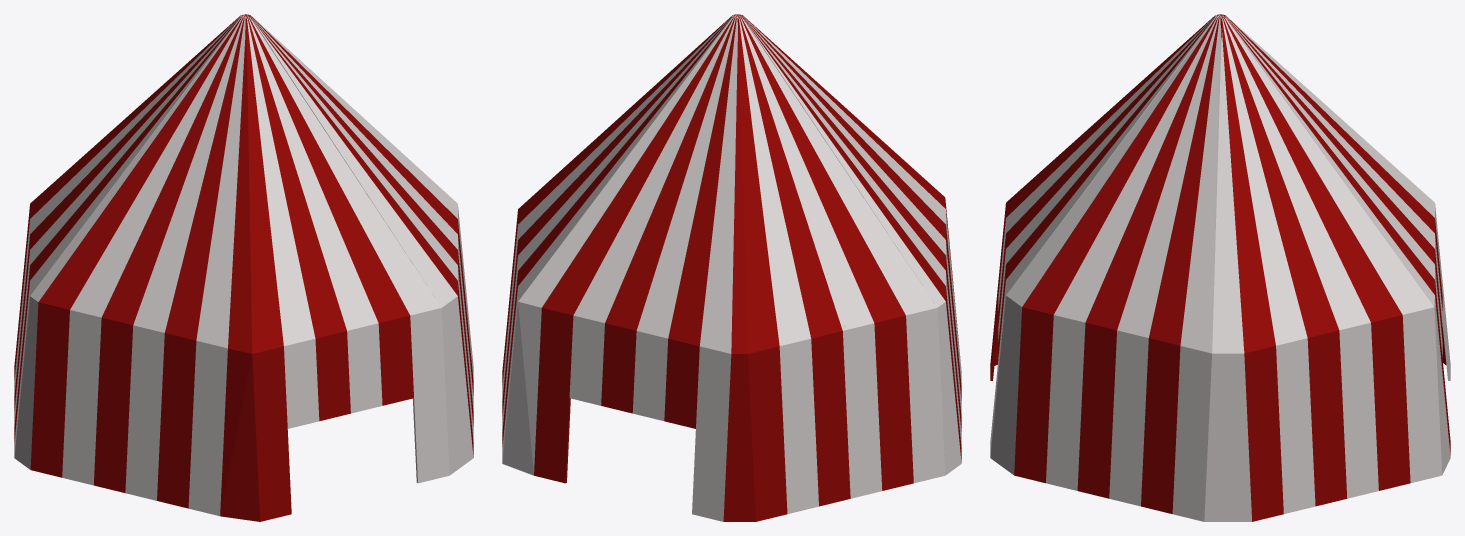
File: carnivaltent.obj
The picture shows the model from 3 angles, left to right: view 1: azimuth 30°, elevation 25°; view 2: azimuth 150°, elevation 25°; view 3: azimuth 270°, elevation 25°; orthographic projection.
Parts seen in each view (by area): view 1: Part72, Wedge31, Part40, Part42, Part76, Part61, Part60, Part49, Part58, Wedge163, Wedge165, Wedge148 (+37 smaller); view 2: Part68, Part55, Part50, Part51, Part46, Part54, Part43, Part37, Wedge35, Wedge104, Wedge34, Wedge114 (+41 smaller); view 3: Wedge44, Part41, Part45, Part57, Part67, Part78, Part62, Part53, Part59, Part48, Part52, Part56 (+39 smaller).
Part boxes in pixels (x1,y1,x2,y2): Part72: (410, 308, 449, 483); Wedge31: (196, 19, 245, 340); Part40: (125, 325, 164, 500); Part42: (62, 310, 101, 485); Part76: (252, 346, 291, 521); Part61: (157, 333, 196, 508); Part60: (30, 302, 69, 477); Part49: (188, 341, 227, 516); Part58: (93, 318, 133, 492); Wedge163: (248, 20, 346, 334); Wedge165: (248, 21, 315, 338); Wedge148: (250, 20, 406, 322); Part68: (534, 308, 573, 483); Part55: (748, 346, 787, 521); Part50: (874, 315, 913, 490); Part51: (779, 338, 818, 514); Part46: (843, 323, 882, 498); Part54: (811, 331, 850, 506); Part43: (906, 308, 945, 483); Part37: (692, 346, 731, 521); Wedge35: (741, 21, 842, 334); Wedge104: (636, 20, 734, 333); Wedge34: (739, 21, 810, 338); Wedge114: (743, 21, 901, 322); Wedge44: (1180, 19, 1221, 345); Part41: (1244, 346, 1283, 521); Part45: (1339, 322, 1378, 498); Part57: (1109, 330, 1148, 506); Part67: (1276, 338, 1315, 513); Part78: (1014, 307, 1053, 483); Part62: (1046, 315, 1085, 490); Part53: (1371, 315, 1410, 490); Part59: (1077, 322, 1116, 498); Part48: (1402, 307, 1442, 482); Part52: (1172, 346, 1211, 521); Part56: (1141, 338, 1180, 513).
Size of the model in its own units: 61.5 by 53.16 by 55.69.
